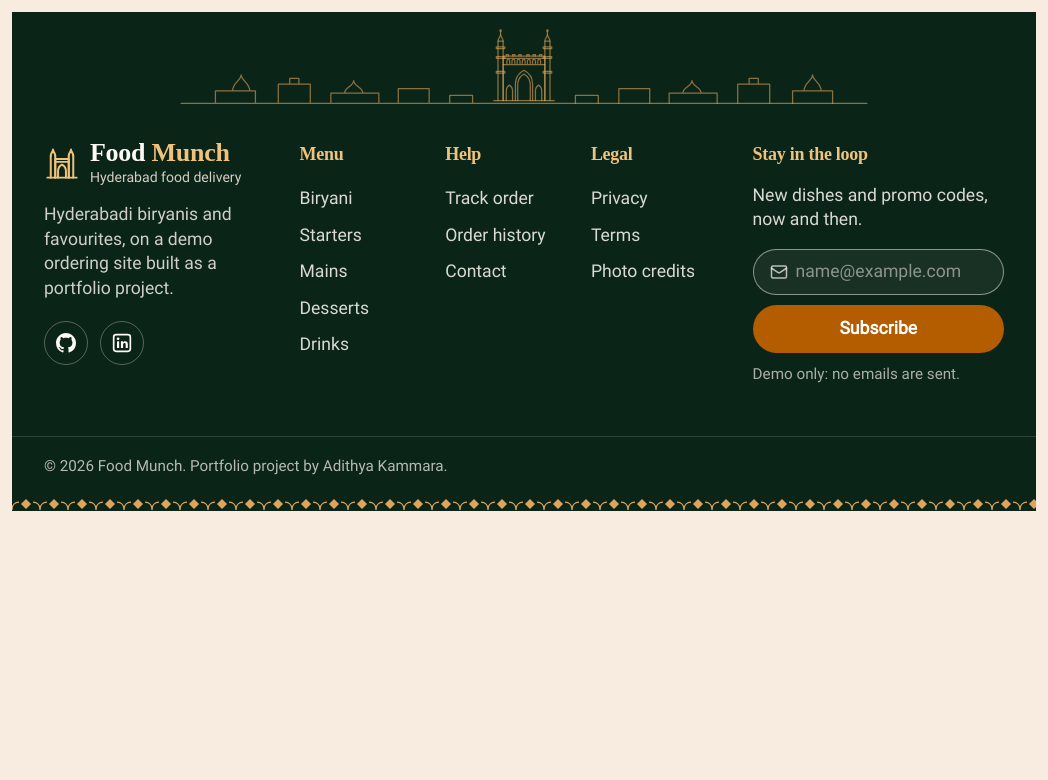
Test: Footer › keeps the subscribe check, returns focus to the field, and clears the error on typing
Click the button "Subscribe" at (878, 329), box x1=753 y1=305 x2=1004 y2=353
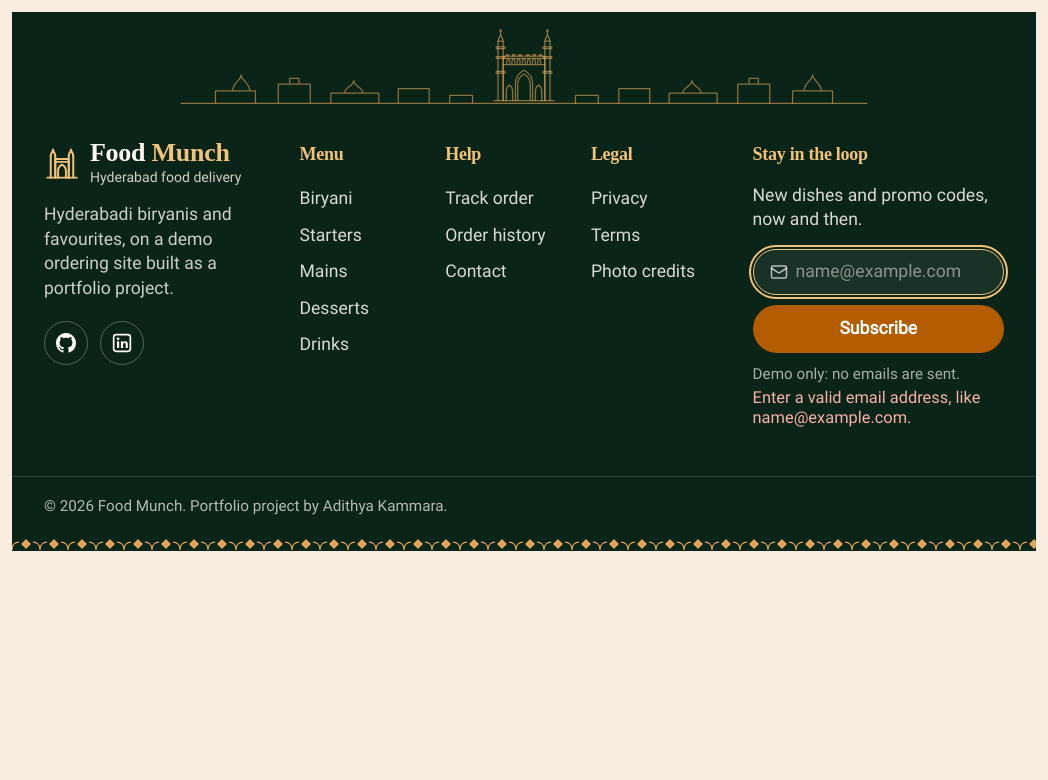
expect the message shows "Enter a valid email address": met, box x1=753 y1=389 x2=980 y2=426
Type "a" into the field named "Email address" at (891, 272), box x1=796 y1=250 x2=987 y2=294
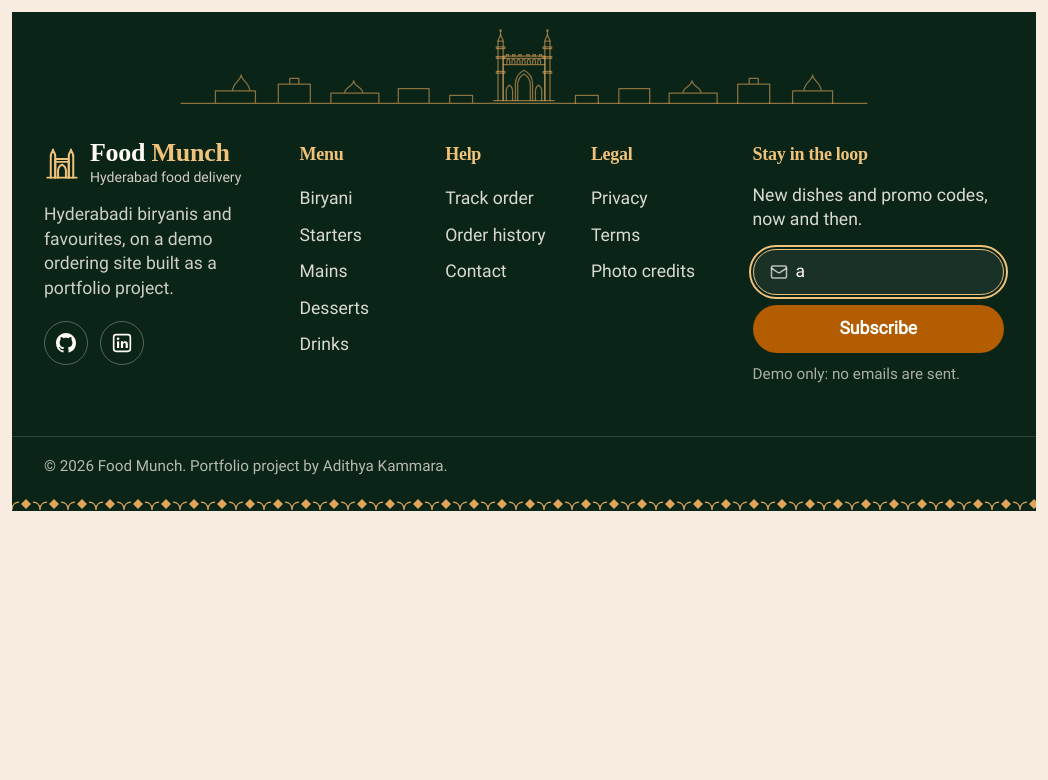
expect the field named "Email address" is not marked as invalid: met
Type "@example.com" into the field named "Email address" at (891, 272), box x1=796 y1=250 x2=987 y2=294
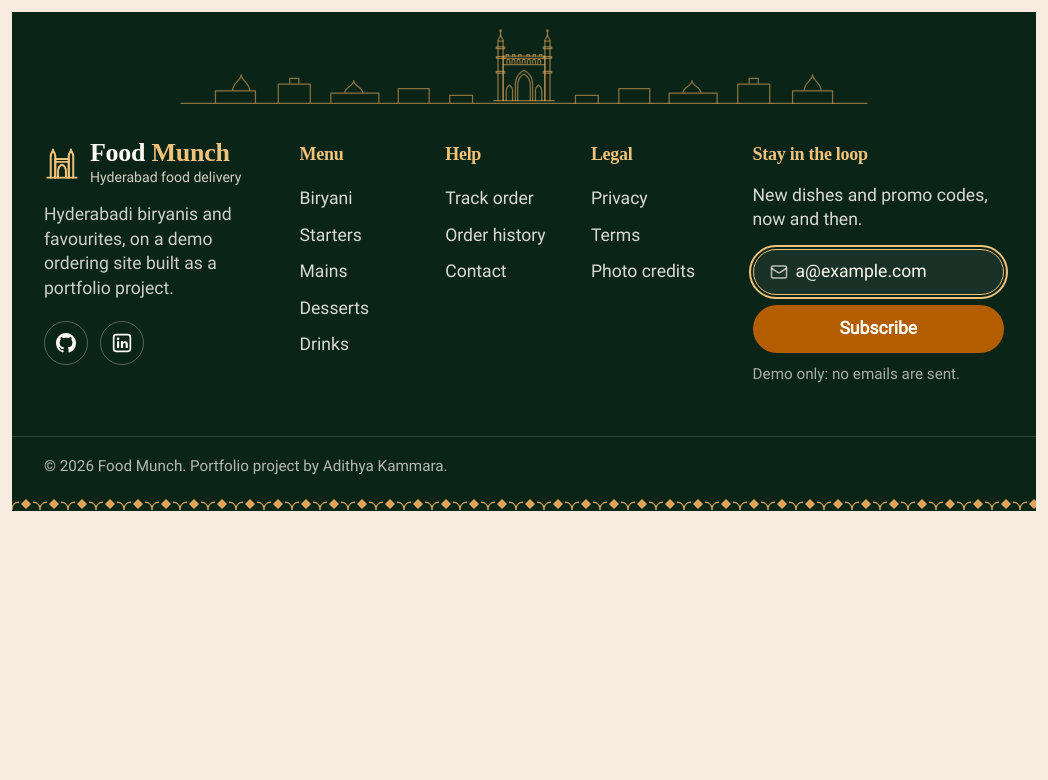
Click the button "Subscribe" at (878, 329), box x1=753 y1=305 x2=1004 y2=353
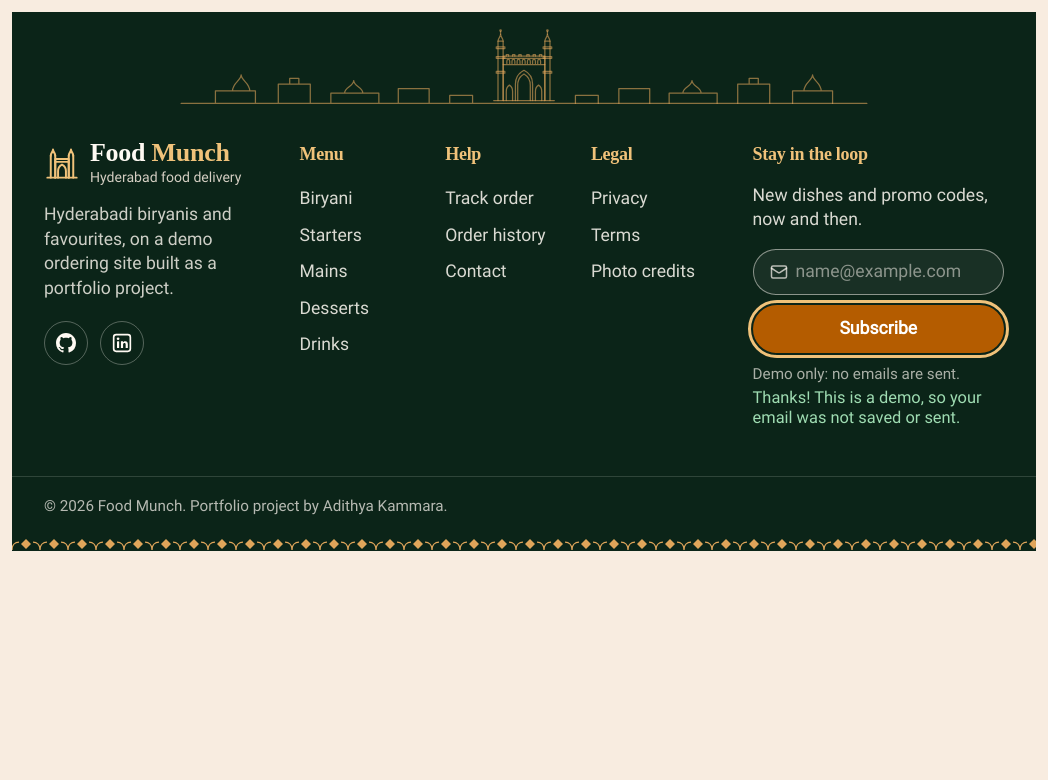
expect the message shows "was not saved or sent": met, box x1=753 y1=389 x2=982 y2=426
expect the field named "Email address" is empty: met, box x1=796 y1=250 x2=987 y2=294
